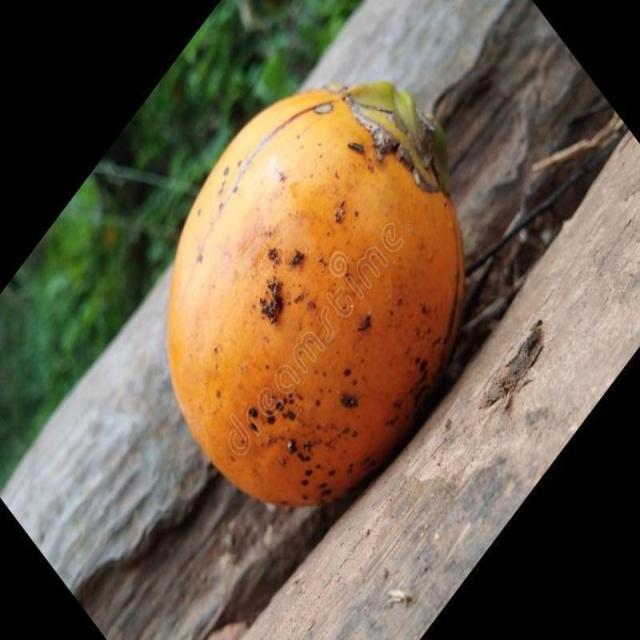good: (166, 80, 466, 509)
